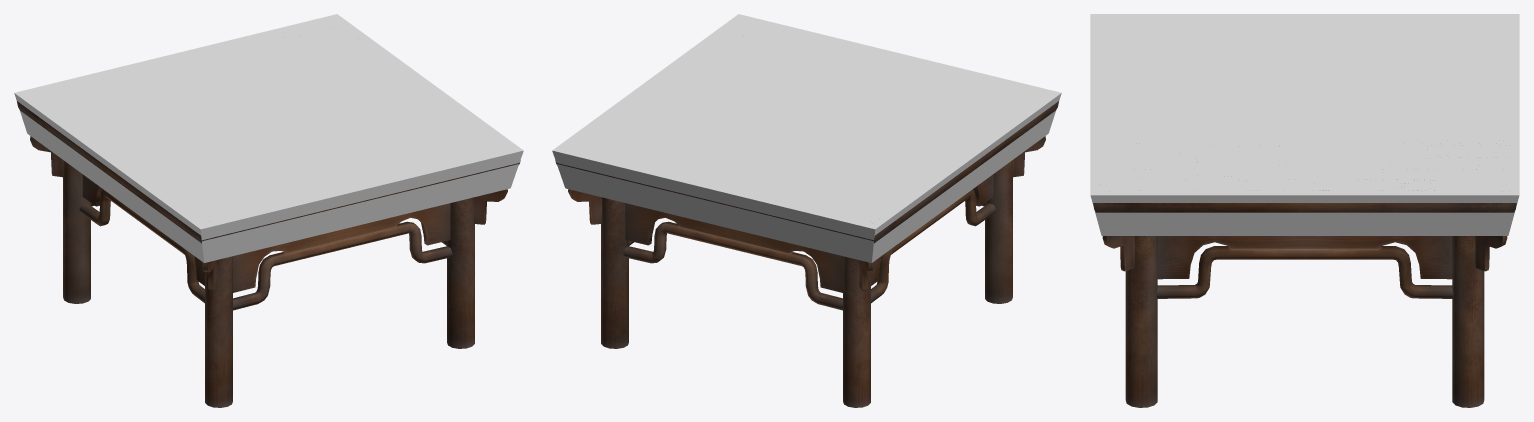
The model's file is chinese_tea_table.fbx.
The picture shows the model from 3 angles, left to right: view 1: azimuth 30°, elevation 25°; view 2: azimuth 150°, elevation 25°; view 3: azimuth 270°, elevation 25°; orthographic projection. The views are drawn at different scales.
Parts seen in each view (by area): view 1: physhull_1, chinese_tea_table; view 2: physhull_1, chinese_tea_table; view 3: physhull_1, chinese_tea_table.
Boxes of the visible parts, bbox=[...] form: physhull_1: bbox=[14, 14, 523, 262]; chinese_tea_table: bbox=[17, 101, 520, 407]; physhull_1: bbox=[552, 14, 1061, 262]; chinese_tea_table: bbox=[555, 101, 1058, 407]; physhull_1: bbox=[1090, 14, 1519, 235]; chinese_tea_table: bbox=[1093, 169, 1516, 407].
Size of the model in its own units: 41.72 by 41.72 by 24.54.
